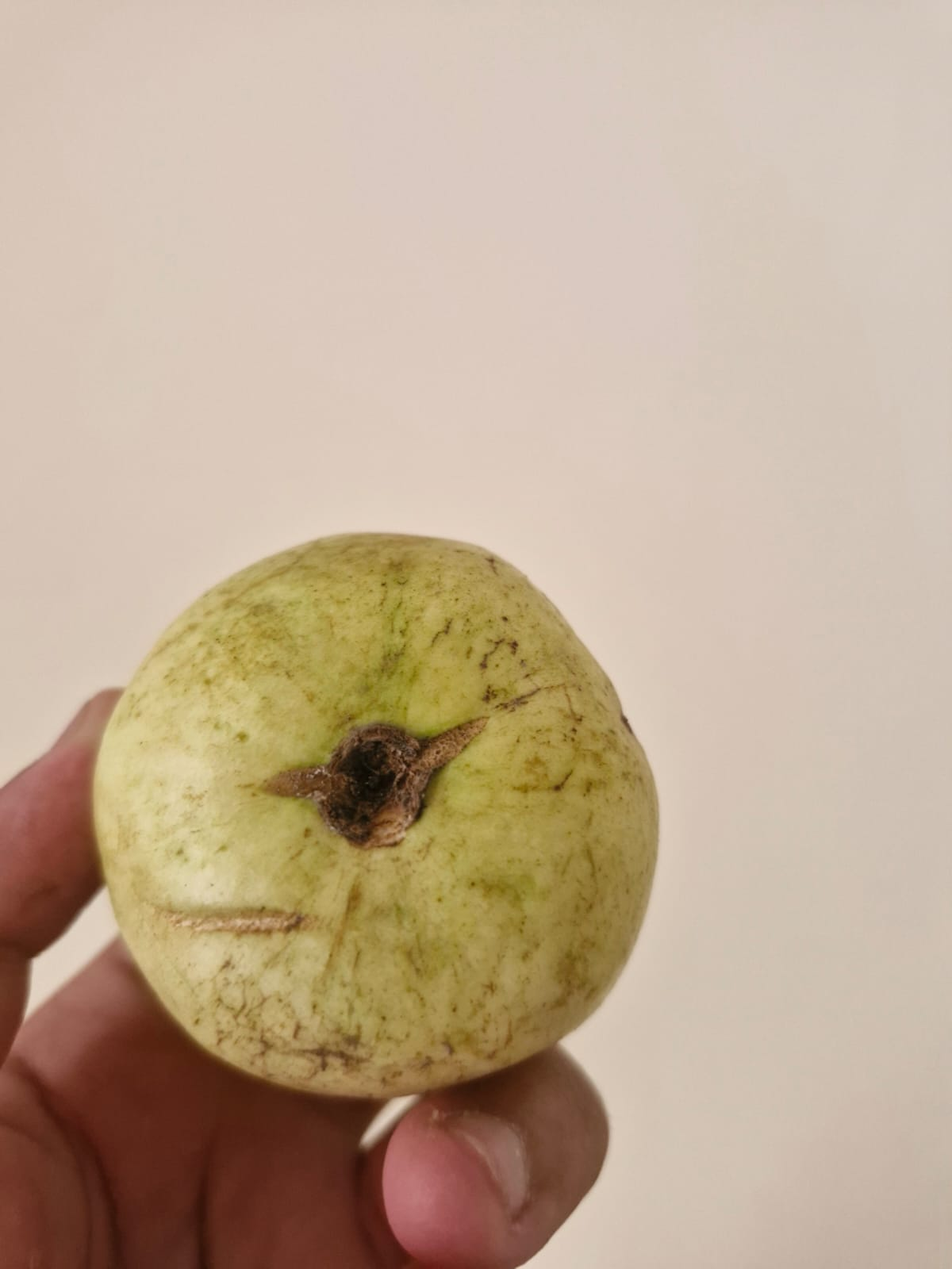guava: (166, 91, 812, 1069)
